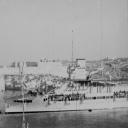Portanaves: (4, 38, 128, 117)
